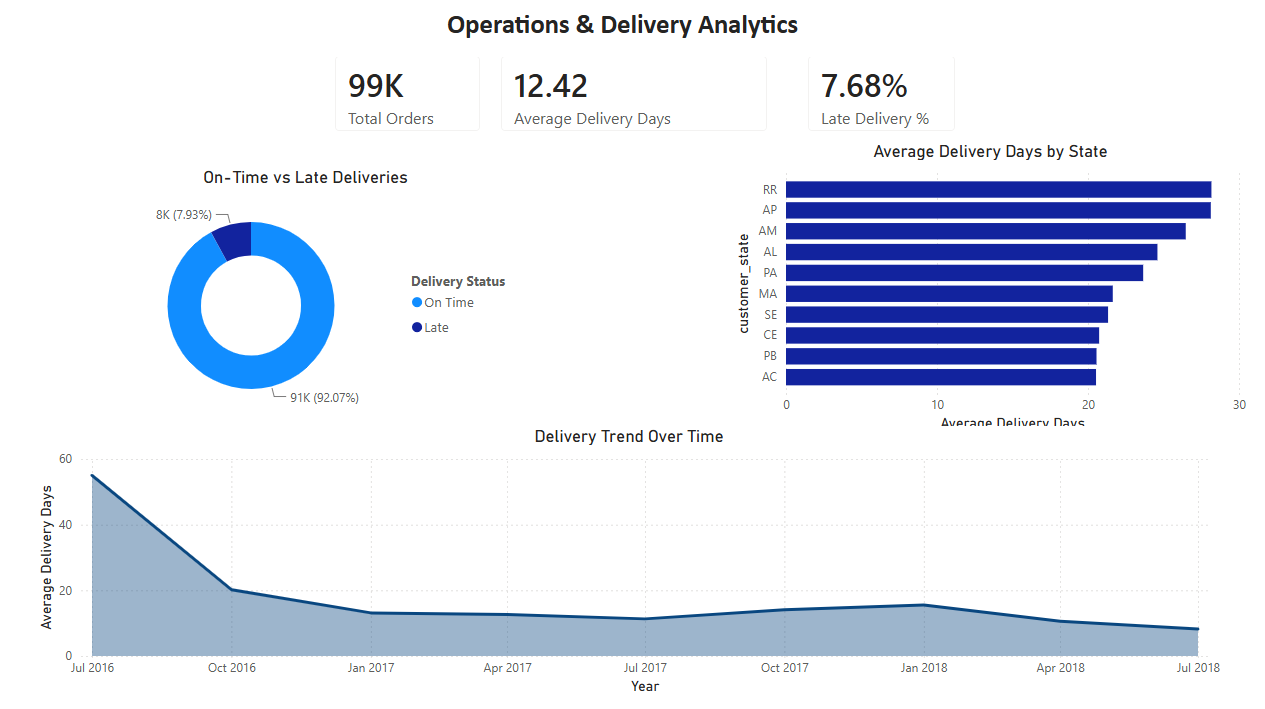

Layout of this report page (visuals, bound fields, positions):
{"tool":"powerbi","page":{"name":"Operations & Delivery Analytics","canvas":[1280,720],"ordinal":2},"visuals":[{"type":"cardVisual","fields":{"Data":["gold_sales_fact.Total Orders"]},"box":[324,43,179,109],"z":0},{"type":"cardVisual","fields":{"Data":["gold_sales_fact.Average Delivery Days"]},"box":[490,43,300,109],"z":1000},{"type":"cardVisual","fields":{"Data":["gold_sales_fact.Late Delivery %"]},"box":[797,43,181,109],"z":2000},{"type":"clusteredBarChart","title":"Average Delivery Days by State","fields":{"Category":["gold_customer_dim.customer_state"],"Y":["gold_sales_fact.Average Delivery Days"]},"box":[736,145,521,295],"z":4000},{"type":"lineChart","title":"Delivery Trend Over Time","fields":{"Category":["gold_date_dim.full_date.Variation.Date Hierarchy.Year","gold_date_dim.full_date.Variation.Date Hierarchy.Quarter","gold_date_dim.full_date.Variation.Date Hierarchy.Month","gold_date_dim.full_date.Variation.Date Hierarchy.Day"],"Y":["gold_sales_fact.Average Delivery Days"]},"box":[39,430,1192,273],"z":5000},{"type":"donutChart","title":"On-Time vs Late Deliveries","fields":{"Category":["gold_sales_fact.Delivery Status"],"Y":["gold_sales_fact.Total Orders"]},"box":[92,171,439,258],"z":6001},{"type":"textbox","box":[0,7,1257,54],"z":6002}]}

Visuals, with their boxes in screenshot pixels (x1, y1, x2, y2), scaled from the page's 1280x720 canvas onto the 1265x709 screenshot:
cardVisual - gold_sales_fact.Total Orders: detection(320, 42, 497, 150)
cardVisual - gold_sales_fact.Average Delivery Days: detection(484, 42, 781, 150)
cardVisual - gold_sales_fact.Late Delivery %: detection(788, 42, 967, 150)
"Average Delivery Days by State" clusteredBarChart: detection(727, 143, 1242, 433)
"Delivery Trend Over Time" lineChart: detection(39, 423, 1217, 692)
"On-Time vs Late Deliveries" donutChart: detection(91, 168, 525, 422)
textbox: detection(0, 7, 1242, 60)
